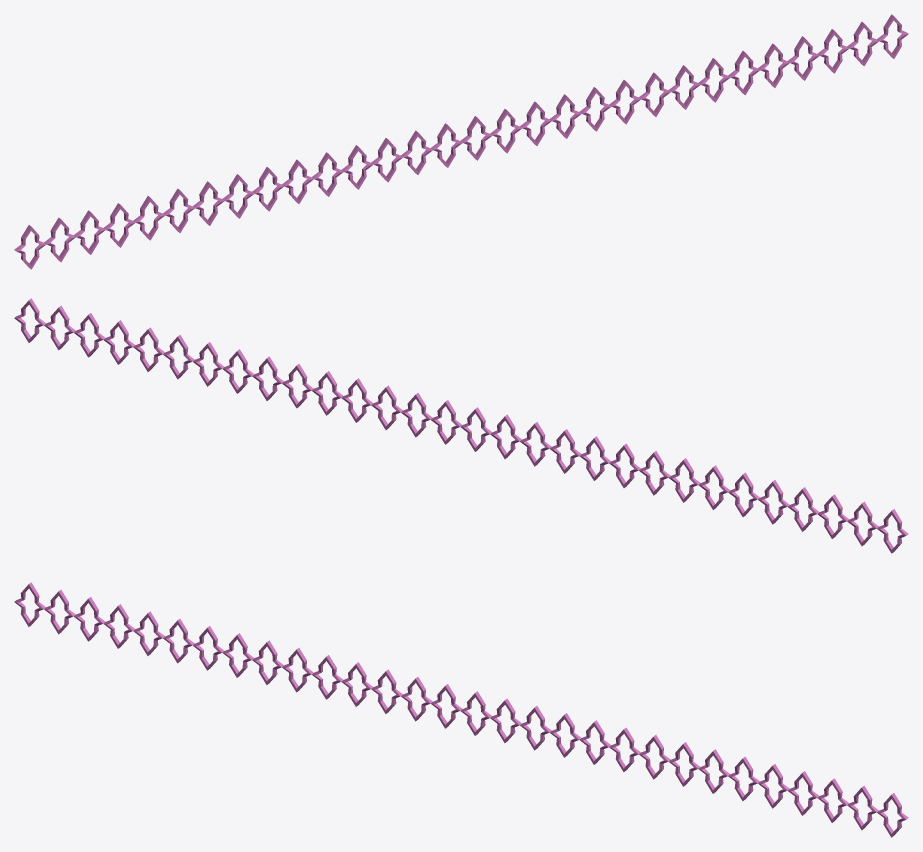
Rendered from fencefront.fbx.
3 views of the same model, one above another, from view 1: azimuth 30°, elevation 25°; view 2: azimuth 150°, elevation 25°; view 3: azimuth 330°, elevation 25° (orthographic).
Parts seen in each view (by area): view 1: fencefront; view 2: fencefront; view 3: fencefront.
Boxes of the visible parts, x1,y1,x2,y2 form: fencefront: (14,14,908,269); fencefront: (14,298,908,553); fencefront: (14,582,908,837).
Bounding box in the file's own units: 8530 × 394 × 44.36.
